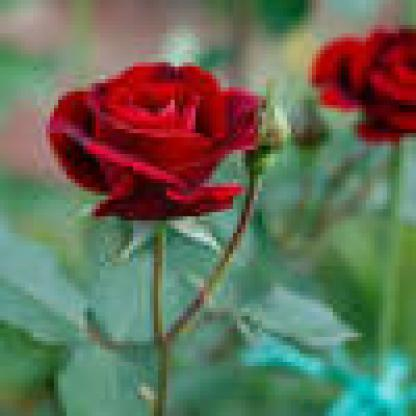Rose-Mawar: (34, 55, 259, 213), (305, 22, 413, 147)
